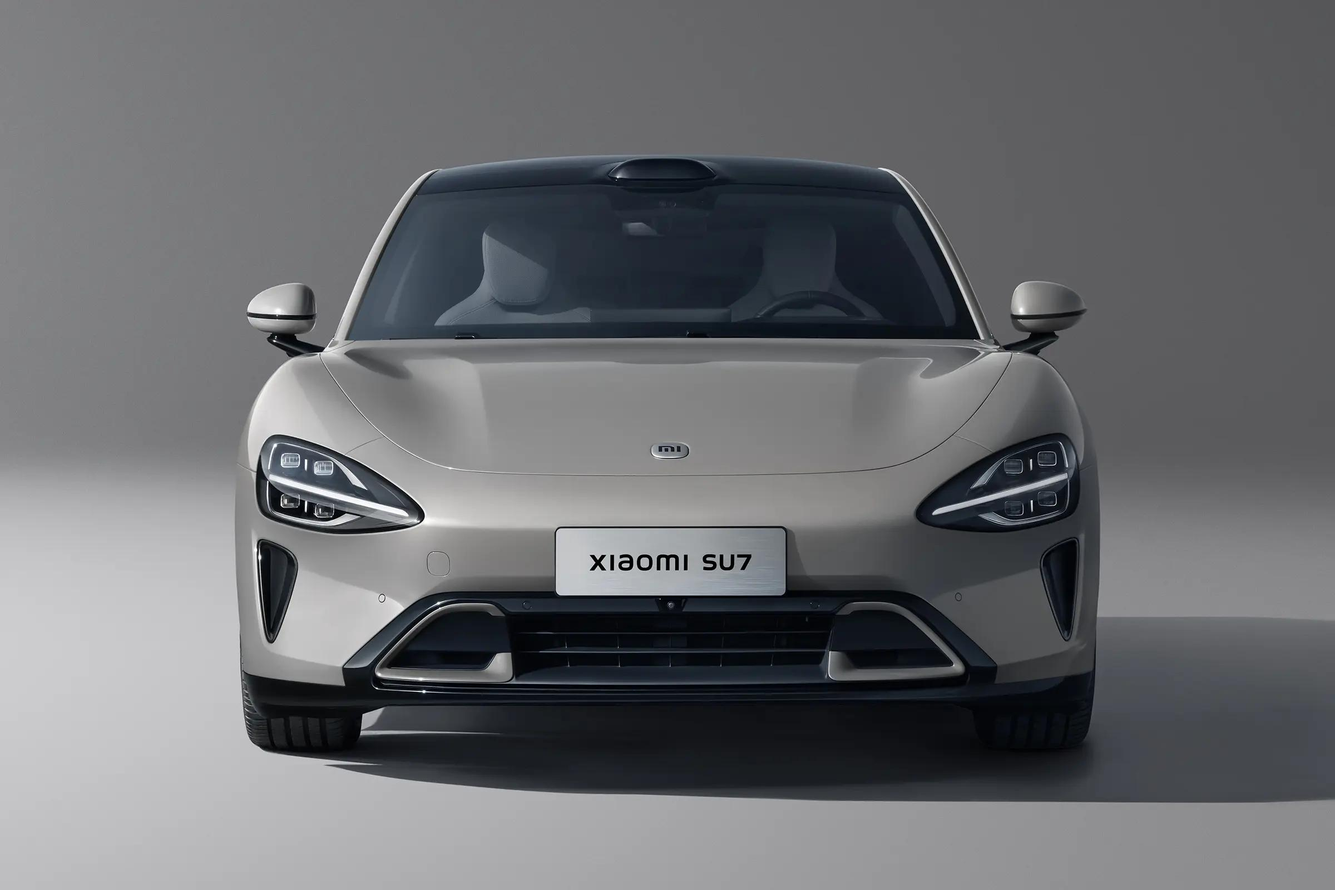XIAOMI: (650, 442, 688, 459)
